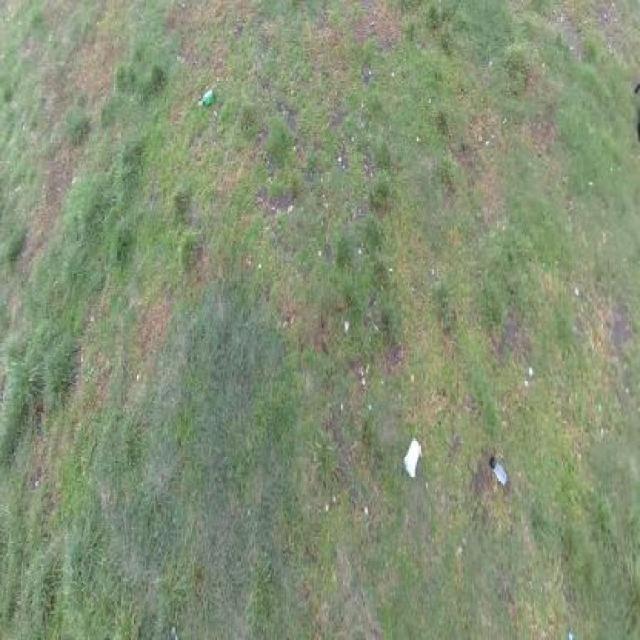Garbage: (401, 434, 421, 480), (488, 453, 508, 486), (199, 90, 214, 107)
